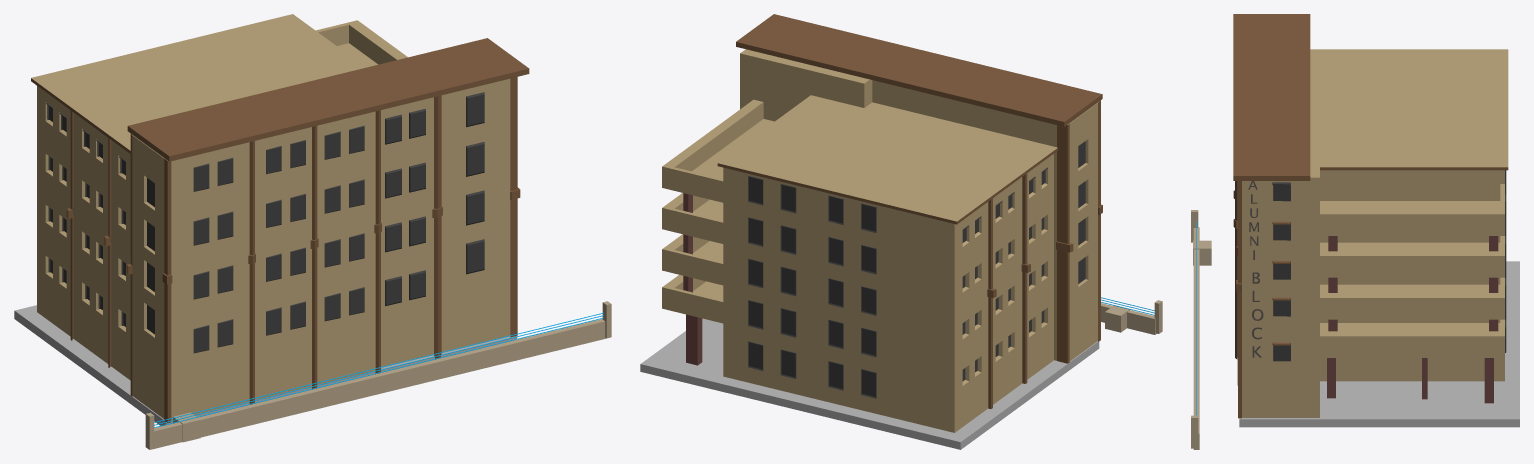
The model's file is Alumni.glb.
3 renders of one model, left to right at view 1: azimuth 30°, elevation 25°; view 2: azimuth 150°, elevation 25°; view 3: azimuth 270°, elevation 25°, orthographic. The views are drawn at different scales.
Visible parts, largest first — view 1: polySurface84; view 2: polySurface84; view 3: polySurface84.
Part boxes in pixels (left/top/right/bottom): polySurface84: left=14, top=14, right=611, bottom=449; polySurface84: left=640, top=14, right=1162, bottom=449; polySurface84: left=1191, top=14, right=1519, bottom=449.
Size of the model in its own units: 26.33 by 15.05 by 17.58.
